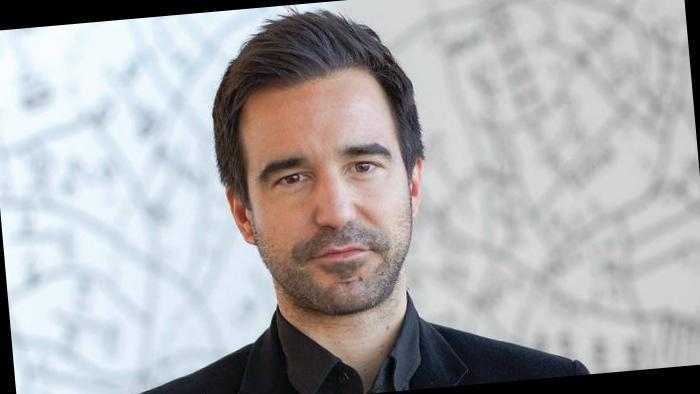Sober: (249, 83, 408, 309)
